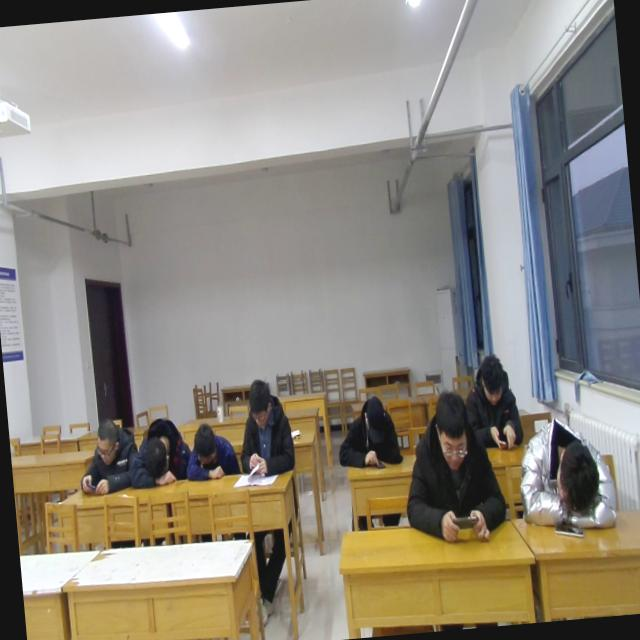bow: (512, 409, 622, 541), (73, 412, 143, 499), (124, 408, 194, 493), (332, 393, 403, 472), (180, 414, 241, 486)
down: (428, 384, 474, 471), (473, 349, 512, 404), (244, 372, 275, 432), (90, 412, 122, 465), (357, 392, 388, 439)
sit: (394, 382, 509, 548), (459, 345, 528, 456), (232, 372, 297, 479)
